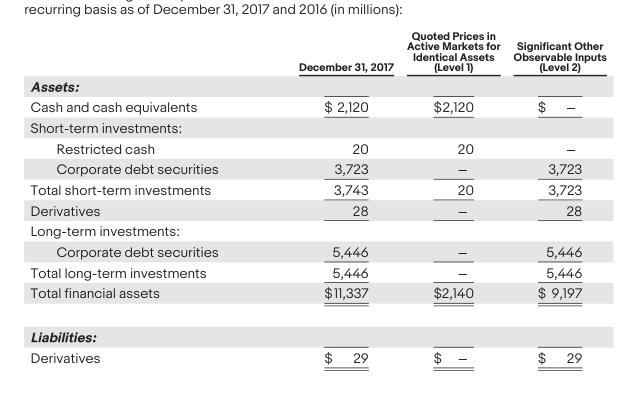table: (29, 29, 605, 364)
table column: (29, 29, 257, 364), (257, 29, 399, 364), (399, 29, 506, 364), (506, 29, 605, 364)
table column header: (29, 29, 605, 75)
table projected row header: (29, 314, 605, 346), (29, 75, 605, 96), (29, 116, 605, 137), (29, 220, 605, 240)
table row: (29, 29, 605, 75), (29, 282, 605, 314), (29, 314, 605, 346), (29, 75, 605, 96), (29, 116, 605, 137), (29, 137, 605, 158), (29, 178, 605, 199), (29, 199, 605, 220), (29, 240, 605, 261), (29, 261, 605, 282), (29, 96, 605, 116), (29, 158, 605, 178), (29, 220, 605, 240), (29, 346, 605, 364)
